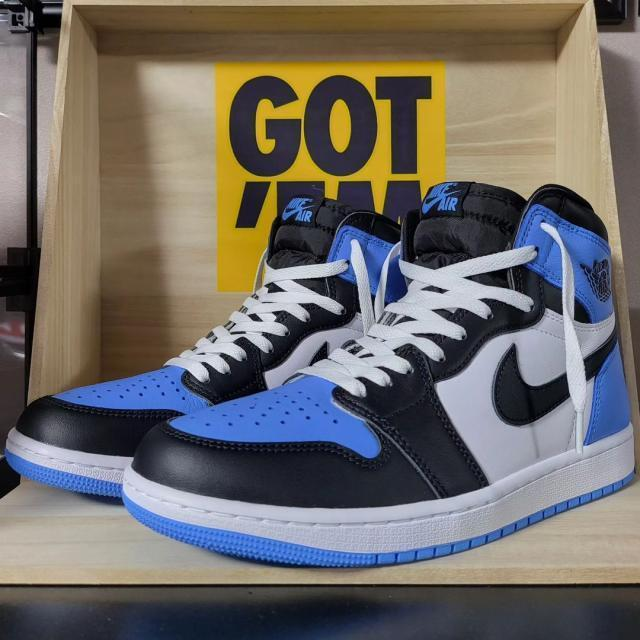nike original jordan 1: (147, 183, 640, 572), (10, 188, 419, 492)
